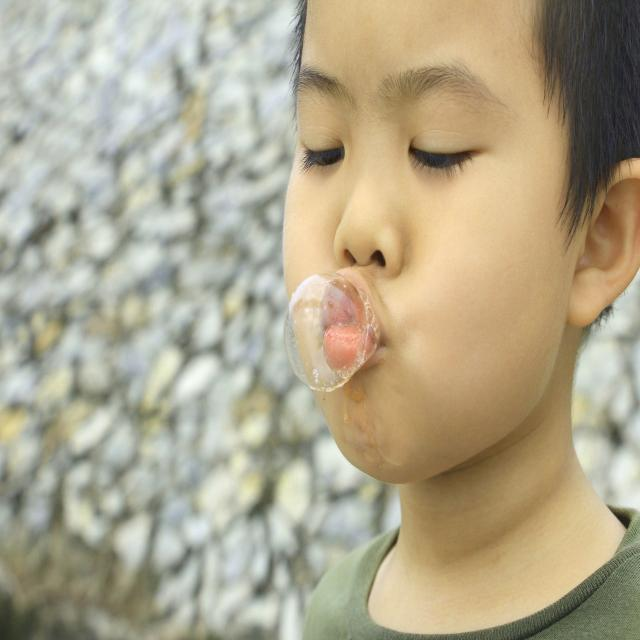Spitting: (281, 3, 640, 509)
